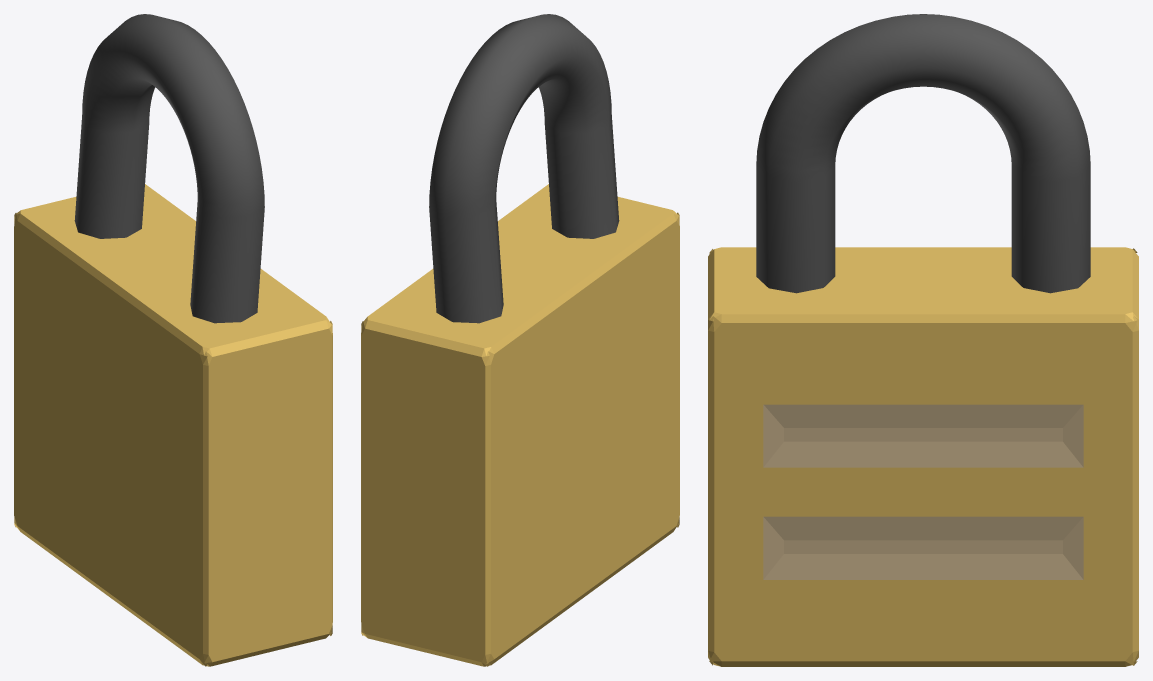
Rendered from 3dfun.fbx.
3 renders of one model, left to right at view 1: azimuth 30°, elevation 25°; view 2: azimuth 150°, elevation 25°; view 3: azimuth 270°, elevation 25°, orthographic. The views are drawn at different scales.
Visible parts, largest first — view 1: Cube, Circle; view 2: Cube, Circle; view 3: Cube, Circle.
Boxes of the visible parts, left/top/right/bottom form: Cube: left=14, top=184, right=332, bottom=666; Circle: left=74, top=14, right=264, bottom=323; Cube: left=361, top=184, right=679, bottom=666; Circle: left=429, top=14, right=619, bottom=323; Cube: left=708, top=247, right=1138, bottom=666; Circle: left=756, top=14, right=1090, bottom=293.
Size of the model in its own units: 94.49 by 389 by 245.
